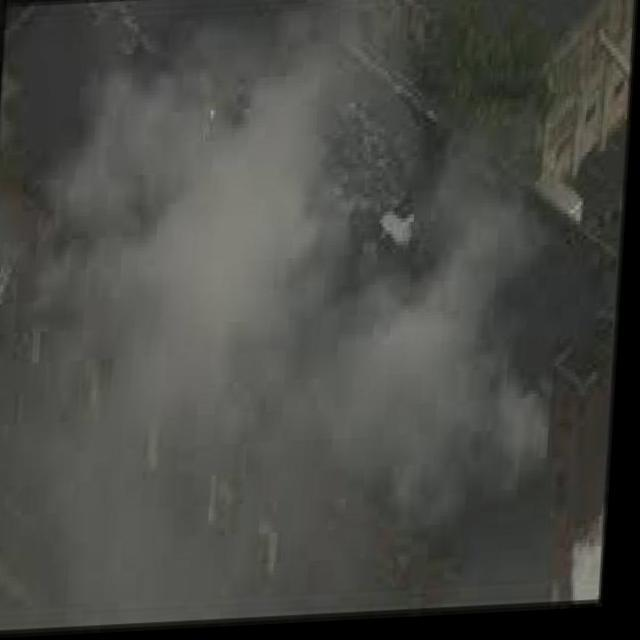Smoke: (0, 0, 595, 635)
